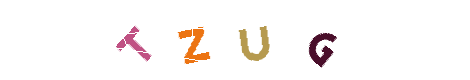G: (281, 0, 361, 80)
T: (154, 0, 234, 80)
U: (194, 0, 274, 80)
Z: (175, 0, 255, 80)
